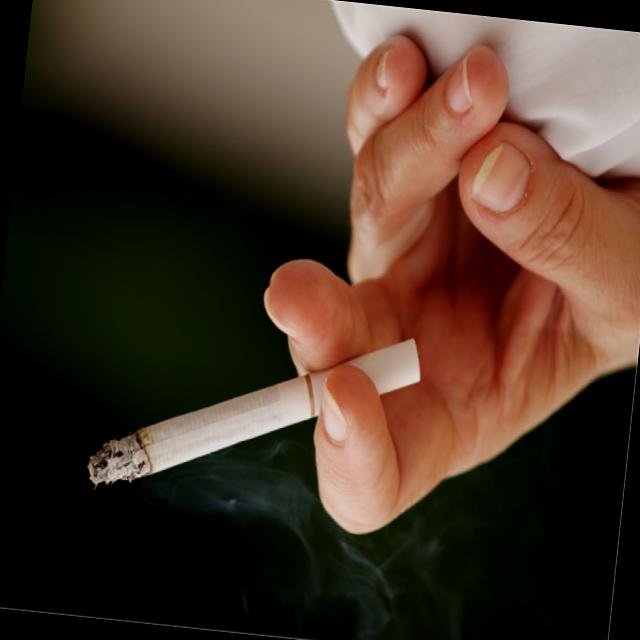cigarette: (82, 350, 319, 520)
